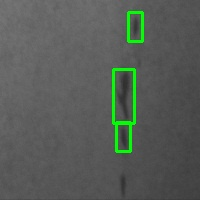inclusion: (113, 69, 134, 123), (116, 122, 130, 151), (128, 13, 142, 41), (117, 171, 130, 198)
